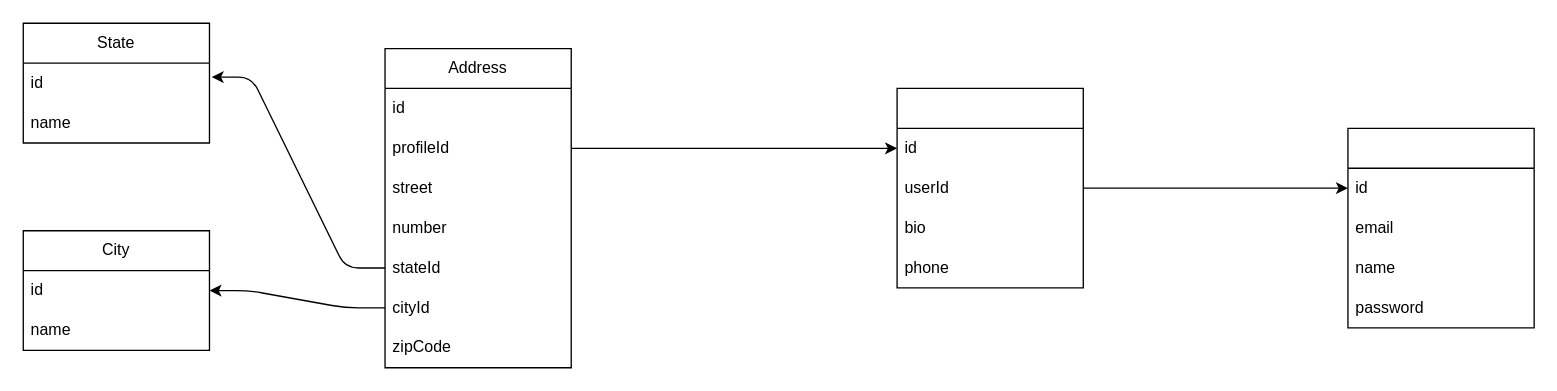
Image size: 1557x391. Some labels were removed from this diagram. Here are the shapes that lost their labels. From the top down, the box of each, then its label:
(896, 87, 1083, 288): Profile
(1347, 127, 1534, 328): User
